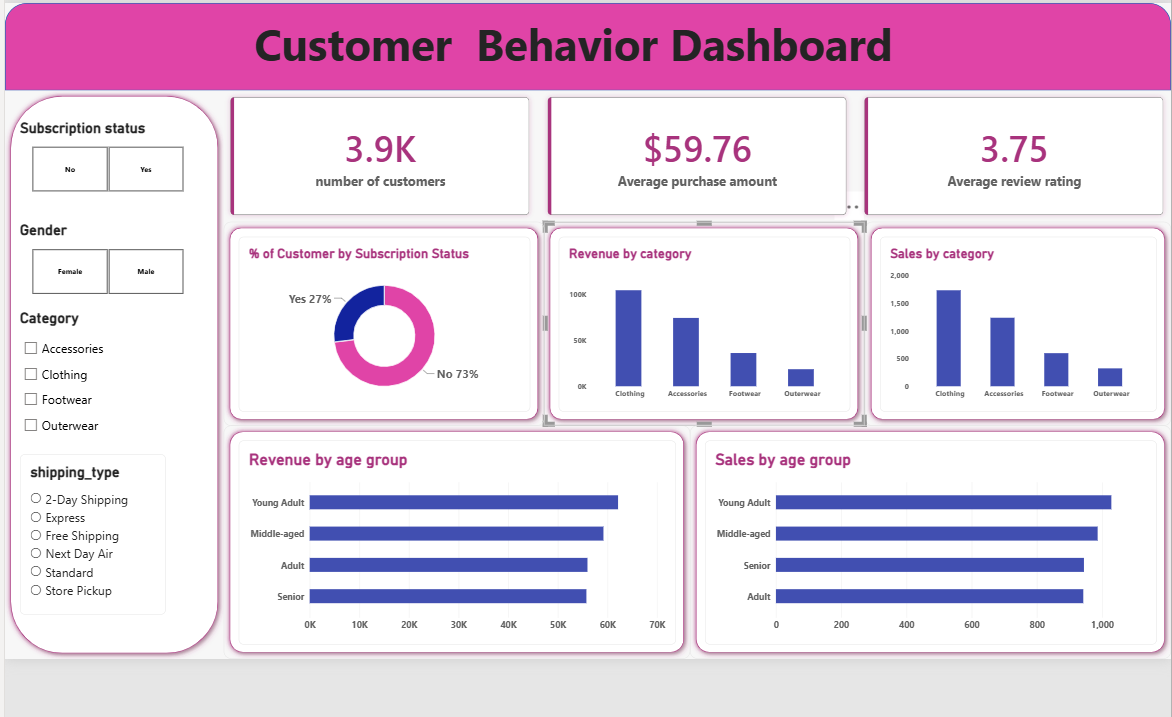

The dashboard page shown, as its layout file describes it:
{"tool":"powerbi","page":{"name":"Page 1","canvas":[1920,1080],"ordinal":0},"visuals":[{"type":"shape","box":[360,696,768,384],"z":0},{"type":"shape","box":[0,144,360,936],"z":1000},{"type":"shape","box":[1416,360,504,336],"z":2000},{"type":"shape","box":[888,360,528,336],"z":3000},{"type":"shape","box":[360,360,528,336],"z":4000},{"type":"shape","box":[0,0,1920,144],"z":5000},{"type":"cardVisual","fields":{"Data":["public customer.number of customers","public customer.Average purchase amount","public customer.Average review rating"]},"box":[360,144,1560,216],"z":6000},{"type":"textbox","box":[0,0,1872,120],"z":7000},{"type":"donutChart","title":"% of Customer by Subscription Status","fields":{"Category":["public customer.subscription_status"],"Y":["CountNonNull(public customer.customer_id)"]},"box":[384,384,480,288],"z":8000},{"type":"clusteredColumnChart","title":"Revenue by category","fields":{"Category":["public customer.category"],"Y":["Sum(public customer.purchase_amount)"]},"box":[912,384,480,288],"z":9000},{"type":"clusteredColumnChart","title":"Sales by category","fields":{"Category":["public customer.category"],"Y":["CountNonNull(public customer.customer_id)"]},"box":[1440,384,456,288],"z":10000},{"type":"slicer","title":"Subscription status","fields":{"Values":["public customer.subscription_status"]},"box":[24,192,288,120],"z":11000},{"type":"slicer","title":"Gender","fields":{"Values":["public customer.gender"]},"box":[24,360,288,120],"z":12000},{"type":"slicer","title":"Category","fields":{"Values":["public customer.category"]},"box":[24,504,312,240],"z":13000},{"type":"listSlicer","fields":{"Values":["public customer.shipping_type"]},"box":[24,744,240,264],"z":14000},{"type":"clusteredBarChart","title":"Revenue by age group","fields":{"Category":["public customer.age_group"],"Y":["Sum(public customer.purchase_amount)"]},"box":[384,720,720,336],"z":15000},{"type":"shape","box":[1128,696,792,384],"z":15001},{"type":"clusteredBarChart","title":"Sales by age group","fields":{"Category":["public customer.age_group"],"Y":["CountNonNull(public customer.customer_id)"]},"box":[1152,720,744,336],"z":15002}]}

Visuals, with their boxes in screenshot pixels (x1, y1, x2, y2):
shape: locate(220, 419, 682, 650)
shape: locate(3, 87, 220, 650)
shape: locate(855, 217, 1159, 419)
shape: locate(538, 217, 855, 419)
shape: locate(220, 217, 538, 419)
shape: locate(3, 0, 1159, 87)
cardVisual - public customer.number of customers x public customer.Average purchase amount: locate(220, 87, 1159, 217)
textbox: locate(3, 0, 1130, 72)
"% of Customer by Subscription Status" donutChart: locate(234, 231, 523, 405)
"Revenue by category" clusteredColumnChart: locate(552, 231, 841, 405)
"Sales by category" clusteredColumnChart: locate(870, 231, 1144, 405)
"Subscription status" slicer: locate(17, 116, 191, 188)
"Gender" slicer: locate(17, 217, 191, 289)
"Category" slicer: locate(17, 303, 205, 448)
listSlicer - public customer.shipping_type: locate(17, 448, 162, 607)
"Revenue by age group" clusteredBarChart: locate(234, 433, 668, 636)
shape: locate(682, 419, 1159, 650)
"Sales by age group" clusteredBarChart: locate(697, 433, 1144, 636)
